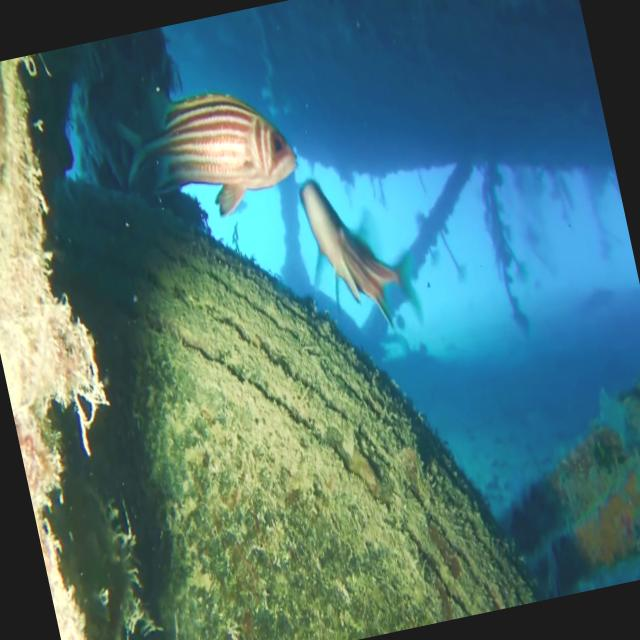Asker Baligi: (110, 73, 306, 236), (290, 160, 426, 346)
